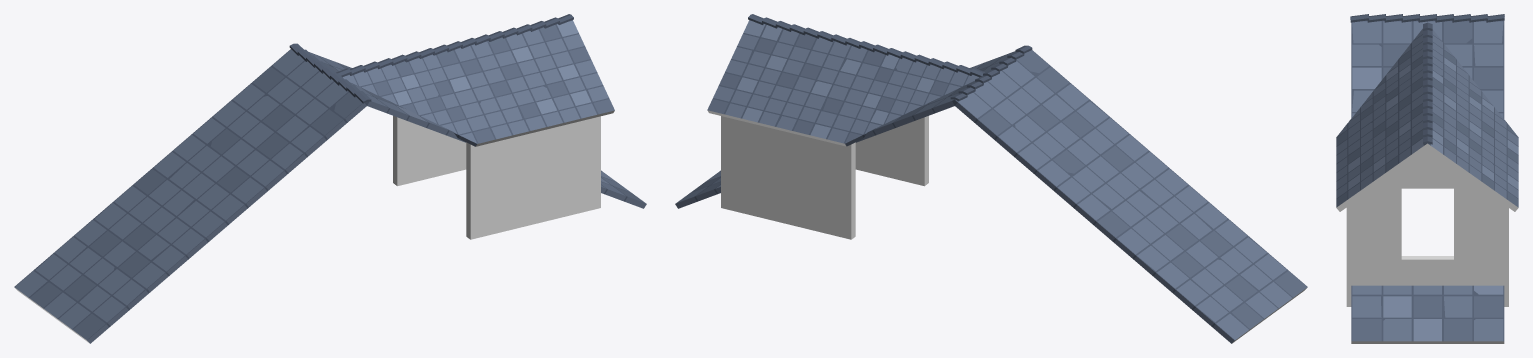
File: Roof4_C7_04.fbx
3 renders of one model, left to right at view 1: azimuth 30°, elevation 25°; view 2: azimuth 150°, elevation 25°; view 3: azimuth 270°, elevation 25°, orthographic. The views are drawn at different scales.
Parts seen in each view (by area): view 1: Roof4_C7_04; view 2: Roof4_C7_04; view 3: Roof4_C7_04.
Part boxes in pixels (box(x1,y1,x2,y2)): Roof4_C7_04: box(14, 14, 646, 343); Roof4_C7_04: box(675, 14, 1307, 343); Roof4_C7_04: box(1336, 14, 1518, 343).
Bounding box in the file's own units: 1105 × 338 × 298.
